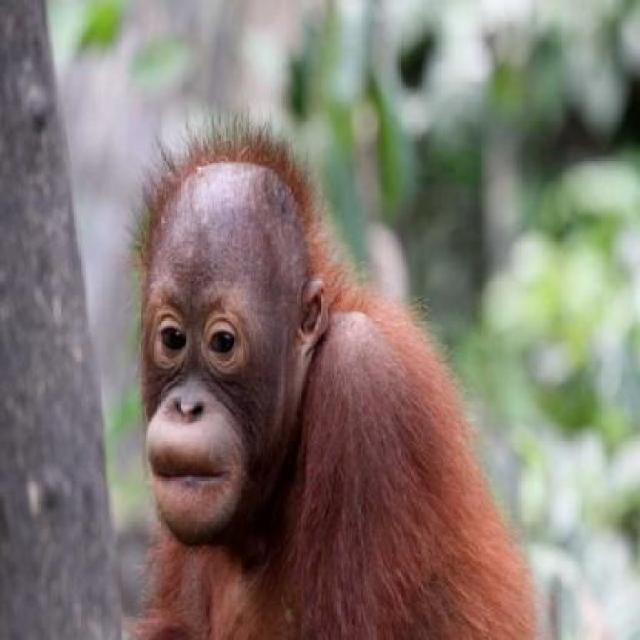Monkey: (94, 104, 568, 639)
